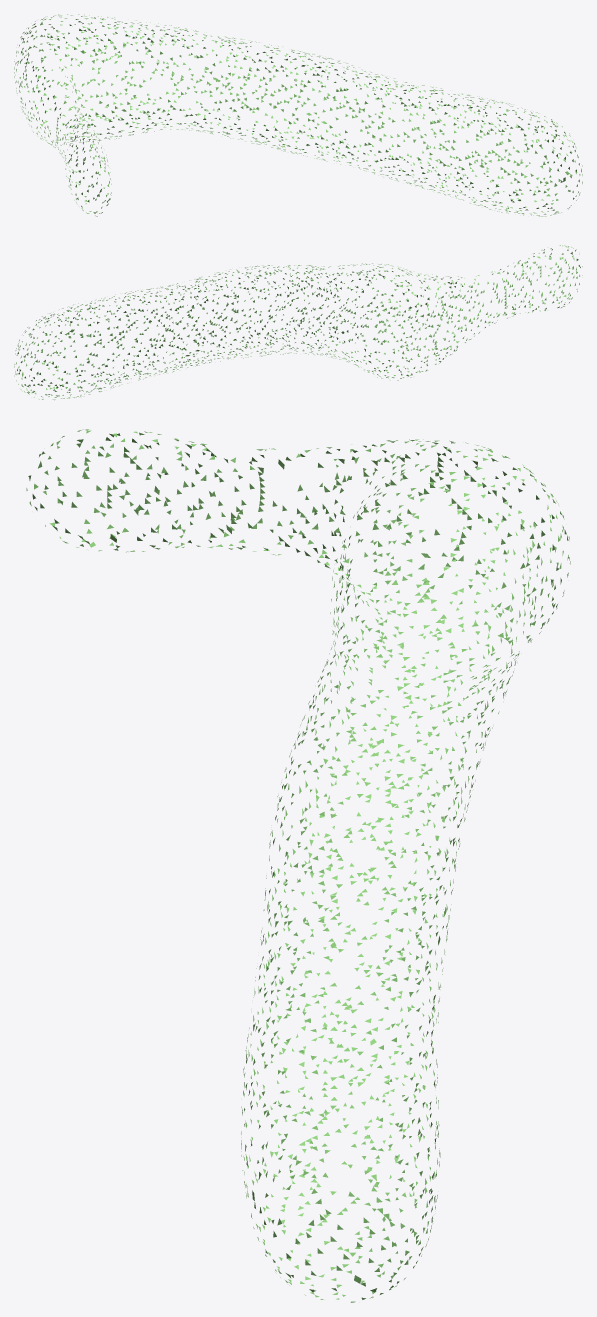
File: morph_015.glb
3 views of the same model, one above another, from view 1: azimuth 30°, elevation 25°; view 2: azimuth 150°, elevation 25°; view 3: azimuth 270°, elevation 25° (orthographic). The views are drawn at different scales.
Size of the model in its own units: 126 by 58.43 by 61.18.
